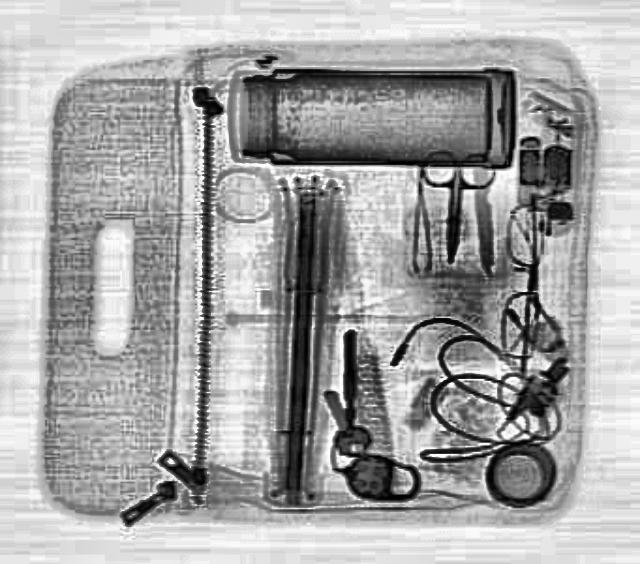Scissors: (407, 148, 495, 262)
